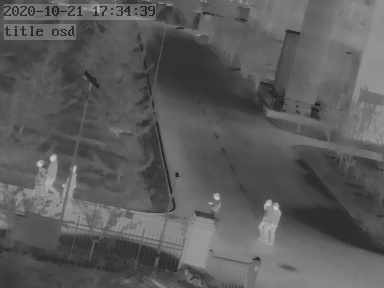person: (64, 162, 80, 204), (45, 153, 60, 196), (258, 200, 272, 242), (32, 158, 46, 197), (270, 203, 282, 242), (208, 193, 222, 221)
